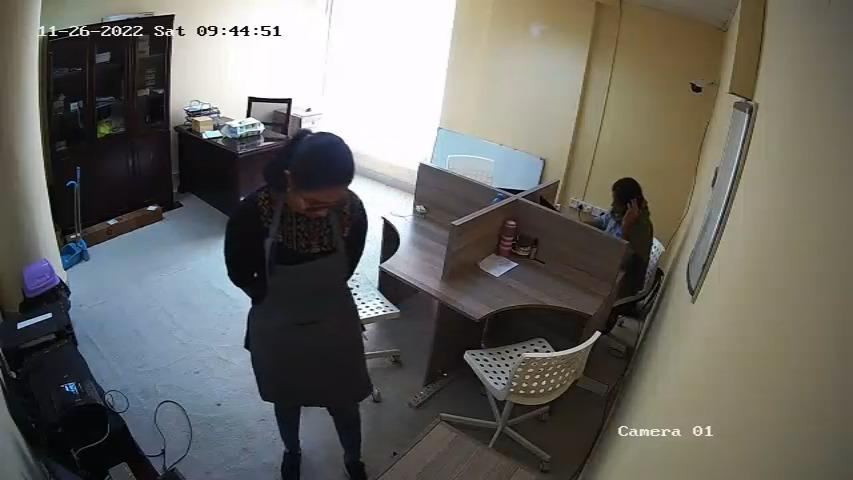apron: (260, 228, 359, 392)
